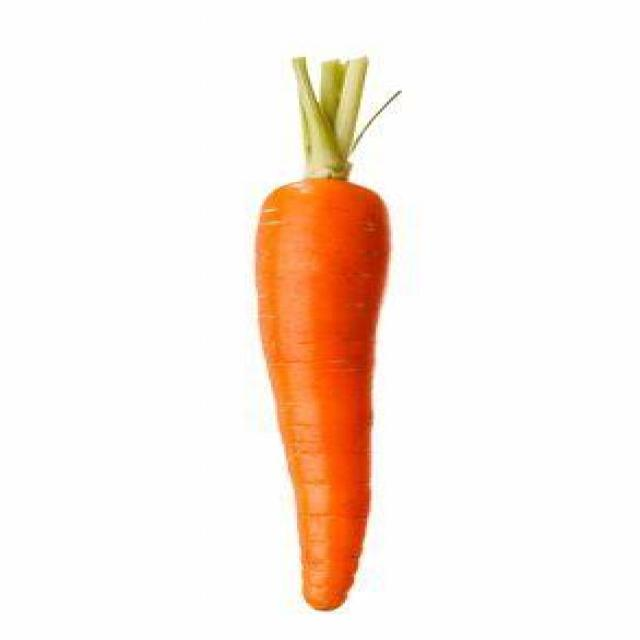Carrot: (245, 53, 392, 613)
